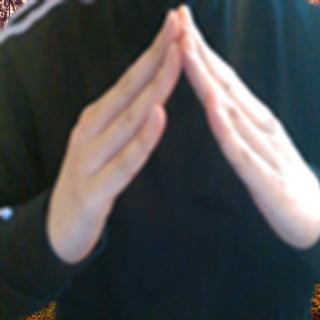HOME: (43, 4, 319, 260)
